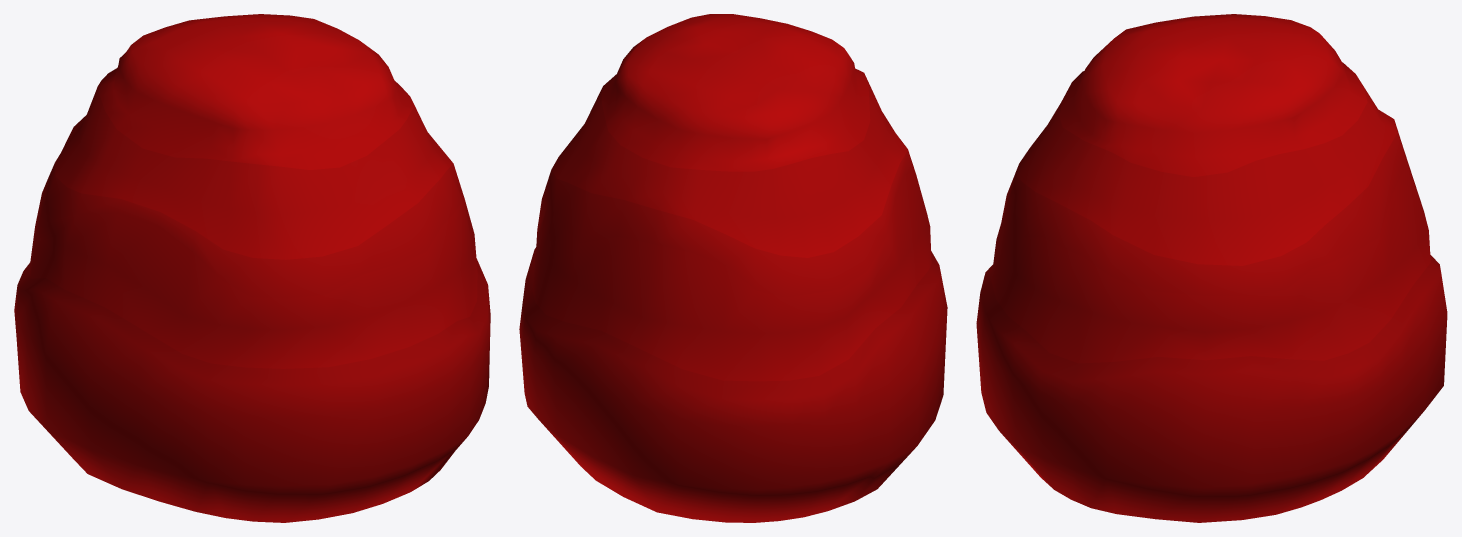
The model's file is geology-landforms-sandhill_v3.fbx.
The picture shows the model from 3 angles, left to right: view 1: azimuth 30°, elevation 25°; view 2: azimuth 150°, elevation 25°; view 3: azimuth 270°, elevation 25°; orthographic projection.
Parts seen in each view (by area): view 1: SandHill_v3; view 2: SandHill_v3; view 3: SandHill_v3.
Boxes of the visible parts, bbox=[...] form: SandHill_v3: bbox=[14, 14, 490, 522]; SandHill_v3: bbox=[519, 14, 947, 522]; SandHill_v3: bbox=[976, 14, 1447, 522].
Bounding box in the file's own units: 41.93 × 40.65 × 43.1.
